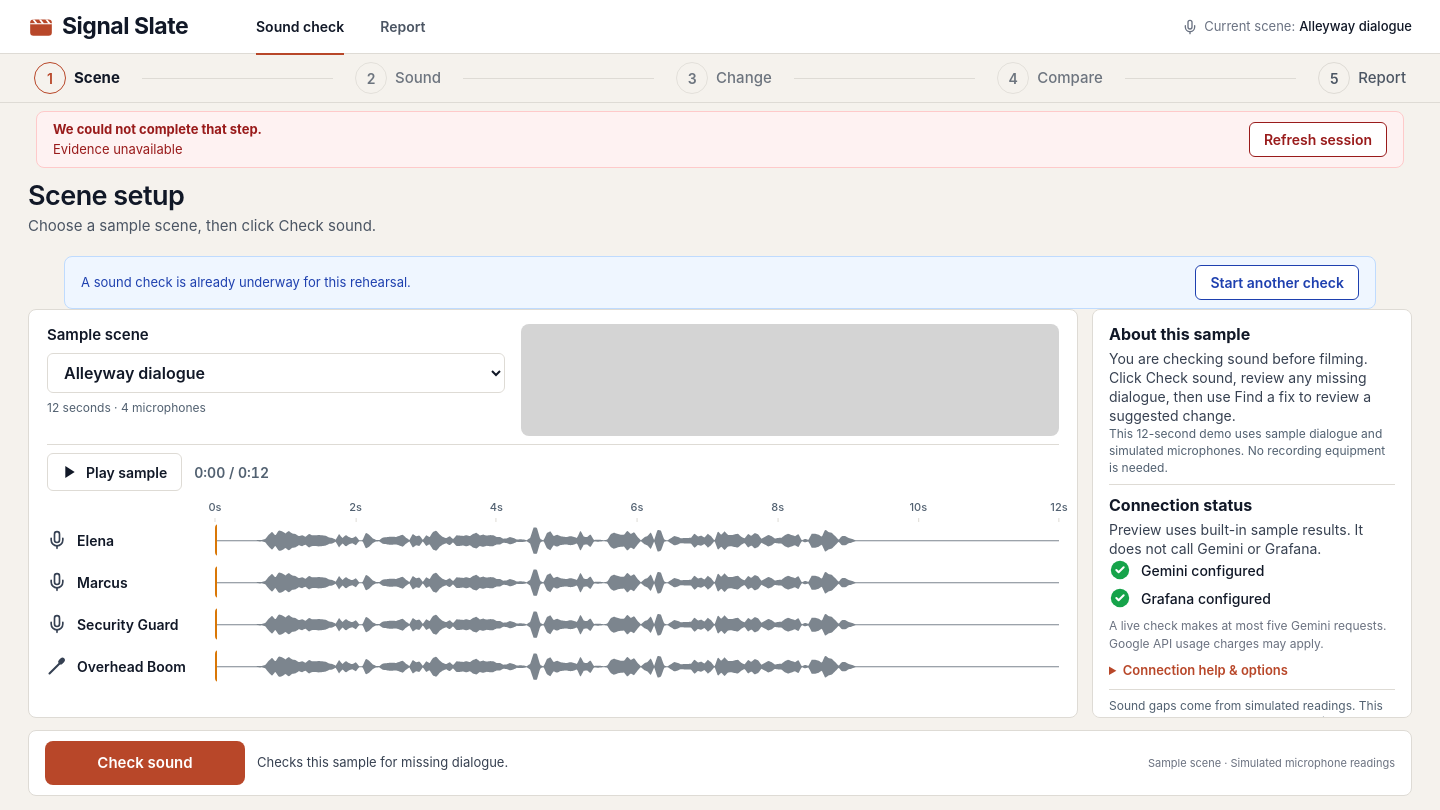
Scenario: Rehearsal API workflow › restores with a read-only GET and surfaces errors without claiming success
The width and height of the screenshot is (1440, 810).
Step 1. Click the button "Check sound" → (145, 763), box [45,741,245,785]
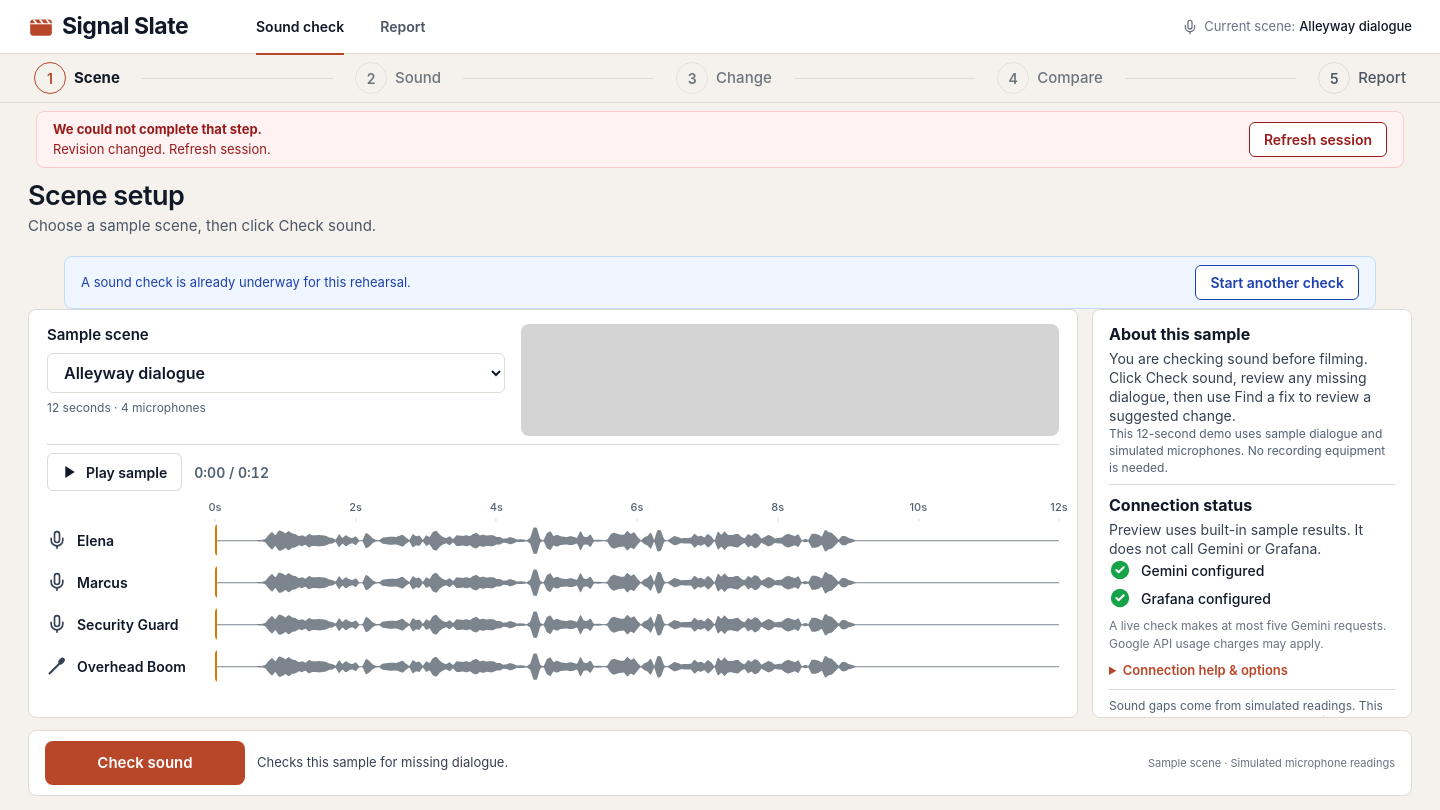
Expected: the message shows "Revision changed. Refresh session.", [53,140,271,156]
